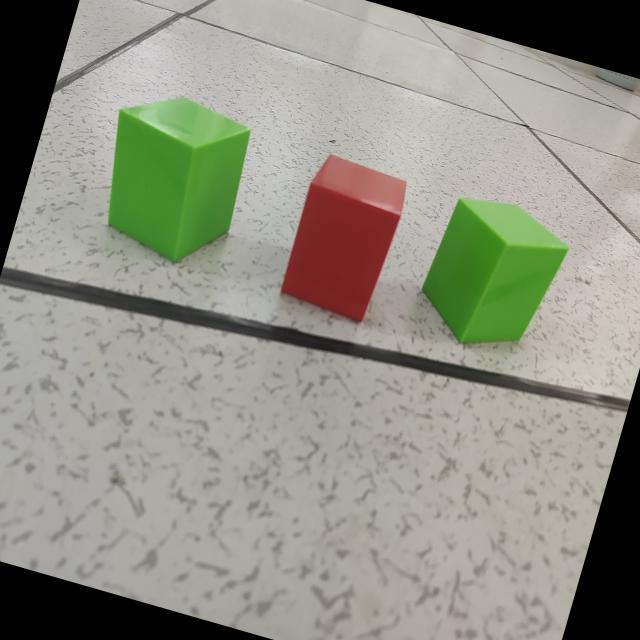green: (106, 98, 251, 264), (421, 196, 568, 345)
red: (280, 156, 406, 324)
